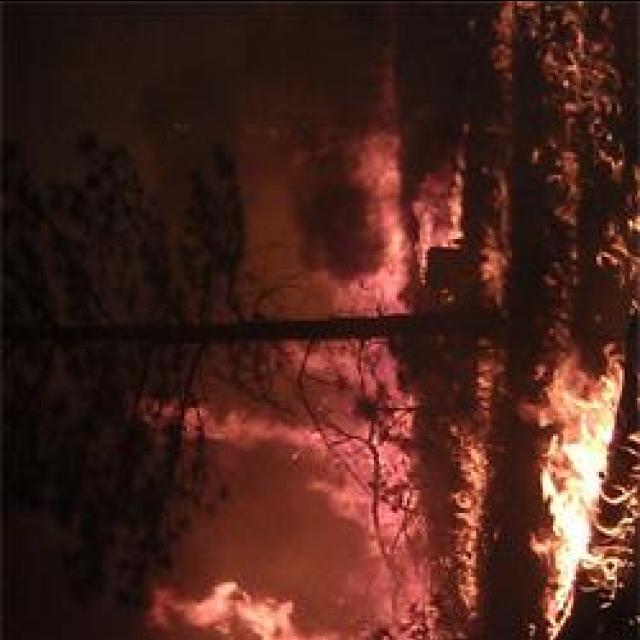fire: (546, 374, 606, 572), (168, 578, 298, 637)
